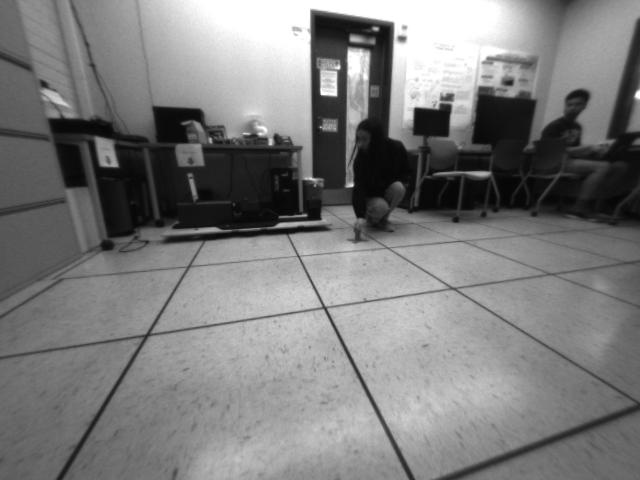x: (350, 233, 369, 244)
